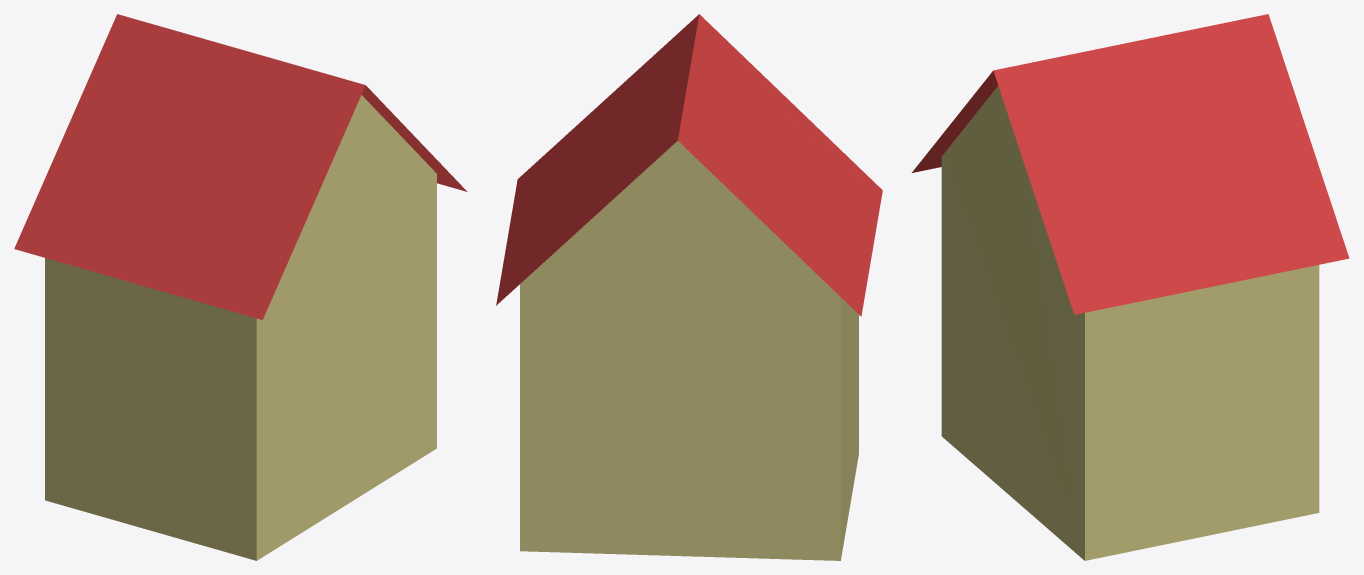
3 views of the same model, side by side, from view 1: azimuth 30°, elevation 25°; view 2: azimuth 150°, elevation 25°; view 3: azimuth 270°, elevation 25° (orthographic).
Visible parts, largest first — view 1: group_5, group_3, group_4; view 2: group_5, group_3, group_4; view 3: group_5, group_3, group_4.
Boxes of the visible parts, x1,y1,x2,y2 form: group_5: (45, 95, 436, 560); group_3: (14, 14, 346, 286); group_4: (15, 80, 467, 319); group_5: (520, 141, 858, 560); group_3: (496, 14, 860, 315); group_4: (496, 14, 882, 316); group_5: (941, 86, 1319, 560); group_3: (912, 18, 1347, 314); group_4: (1177, 14, 1349, 292).
Size of the model in its own units: 15.55 by 14.52 by 15.82.
